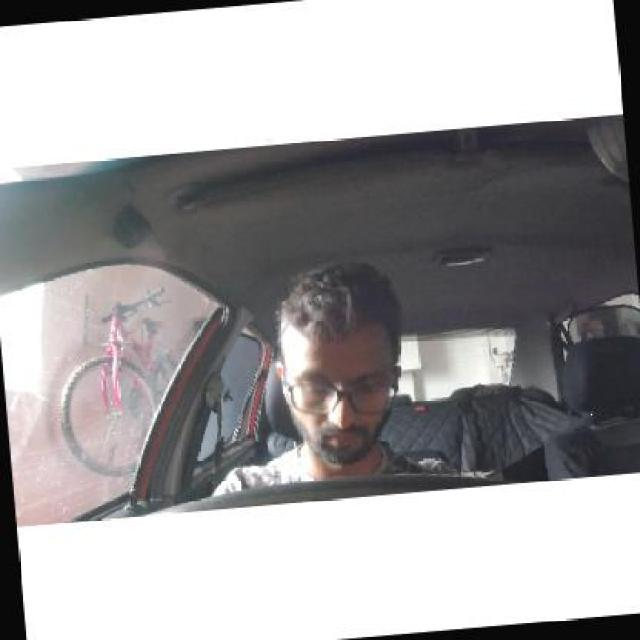drowsy: (276, 255, 412, 468)
